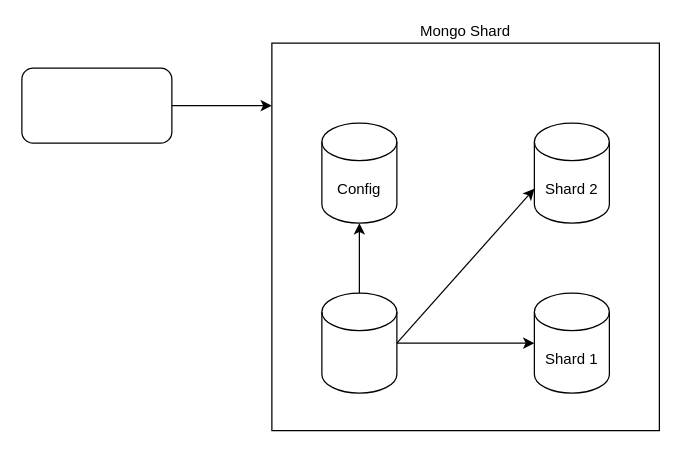
Image size: 681x453. Some labels were removed from this diagram. Here are the shapes that lost their labels. From the top down, the box of each, then its label:
(21, 67, 172, 143): pymongo-api
(321, 292, 397, 393): Router
